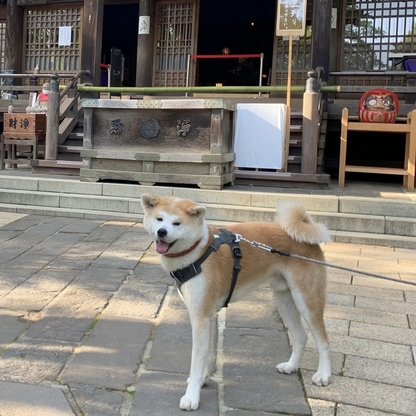akita: (136, 188, 340, 413)
